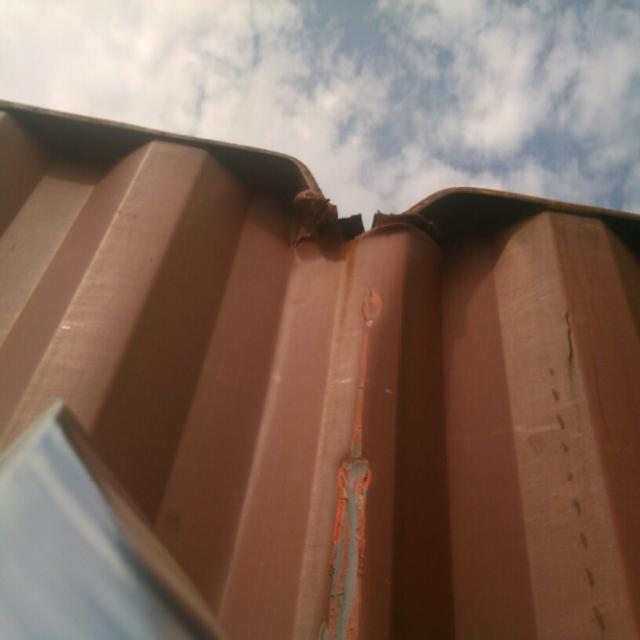dent: (265, 131, 480, 267), (316, 453, 374, 640)
